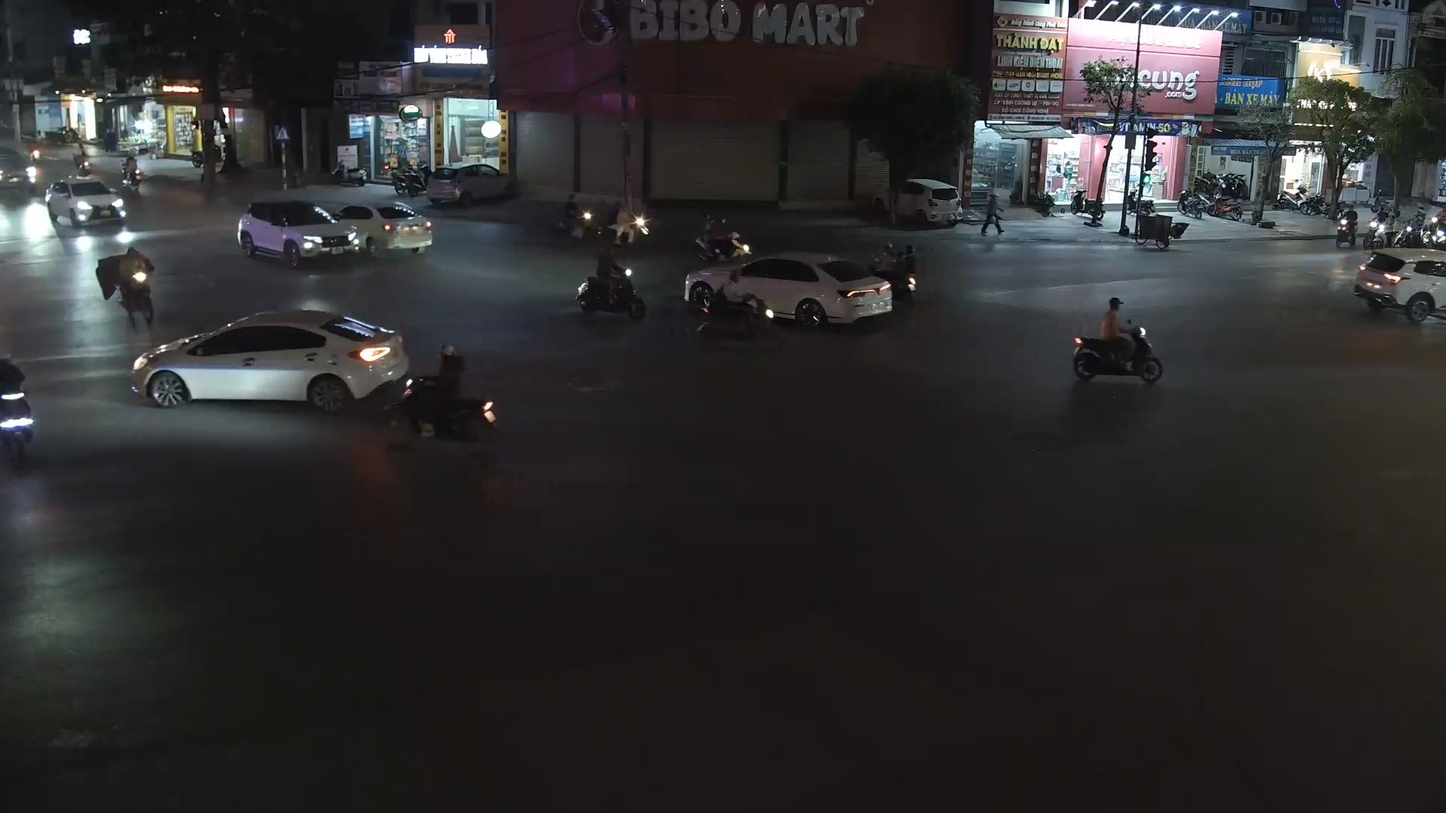car: (129, 308, 413, 413), (687, 249, 914, 329), (235, 187, 437, 269), (1352, 243, 1445, 327), (44, 172, 128, 232), (0, 352, 40, 468)
motorbike: (383, 340, 503, 451), (1067, 294, 1167, 386), (574, 246, 649, 323), (104, 236, 158, 331)
